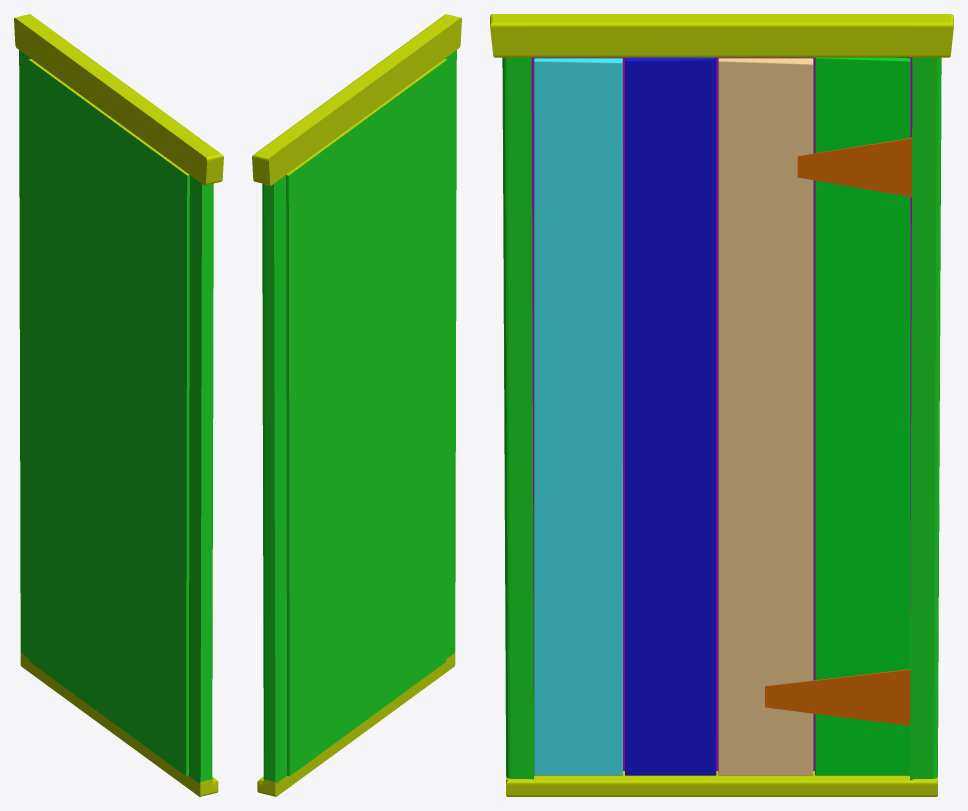
The model's file is CottageHouseFairy4DOOR.fbx.
3 renders of one model, left to right at view 1: azimuth 30°, elevation 25°; view 2: azimuth 150°, elevation 25°; view 3: azimuth 270°, elevation 25°, orthographic. The views are drawn at different scales.
Visible parts, largest first — view 1: Cube.001; view 2: Cube.001; view 3: Cube.001.
Part boxes in pixels (left/top/right/bottom): Cube.001: left=14, top=14, right=223, bottom=796; Cube.001: left=252, top=14, right=461, bottom=796; Cube.001: left=490, top=14, right=953, bottom=796.
Size of the model in its own units: 24.07 by 717 by 389.
